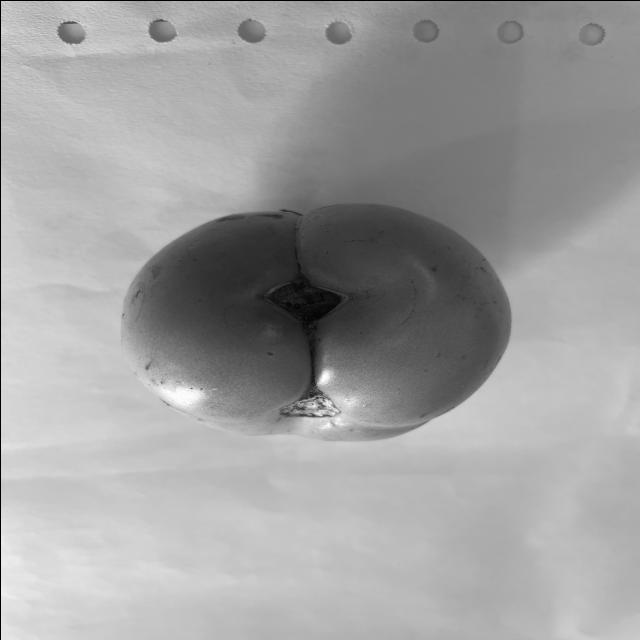fruitworm_bore: (263, 240, 339, 402)
